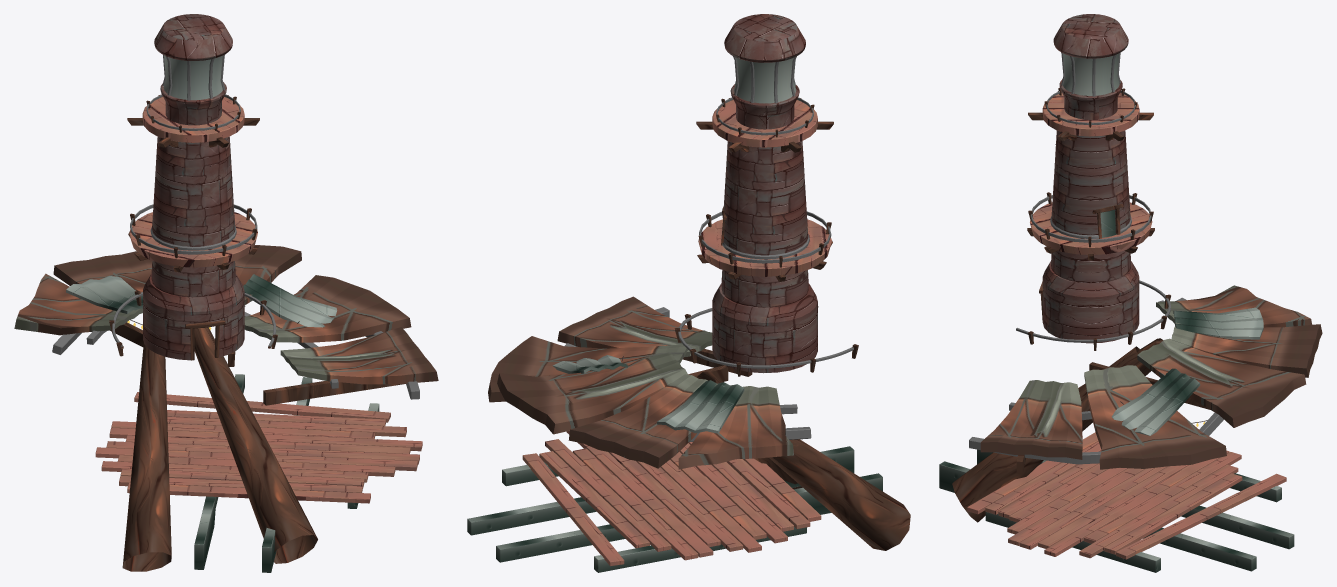
Rendered from Far.glb.
3 renders of one model, left to right at view 1: azimuth 30°, elevation 25°; view 2: azimuth 150°, elevation 25°; view 3: azimuth 270°, elevation 25°, orthographic. The views are drawn at different scales.
Parts seen in each view (by area): view 1: Cube.010; view 2: Cube.010; view 3: Cube.010.
Part boxes in pixels (x1,y1,x2,y2): Cube.010: (14,14,438,572); Cube.010: (467,14,910,572); Cube.010: (939,14,1322,572).
Size of the model in its own units: 37.7 by 55.7 by 40.22.
Materials: 8 (5 with a texture image).
